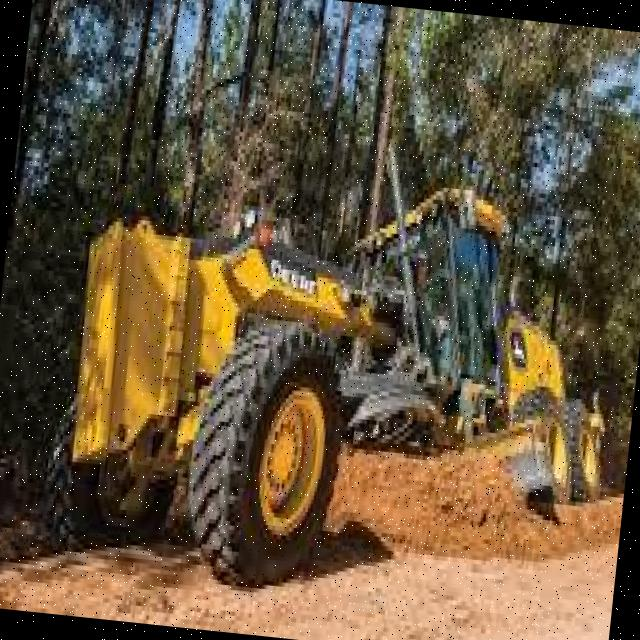Grader: (36, 97, 640, 631)
